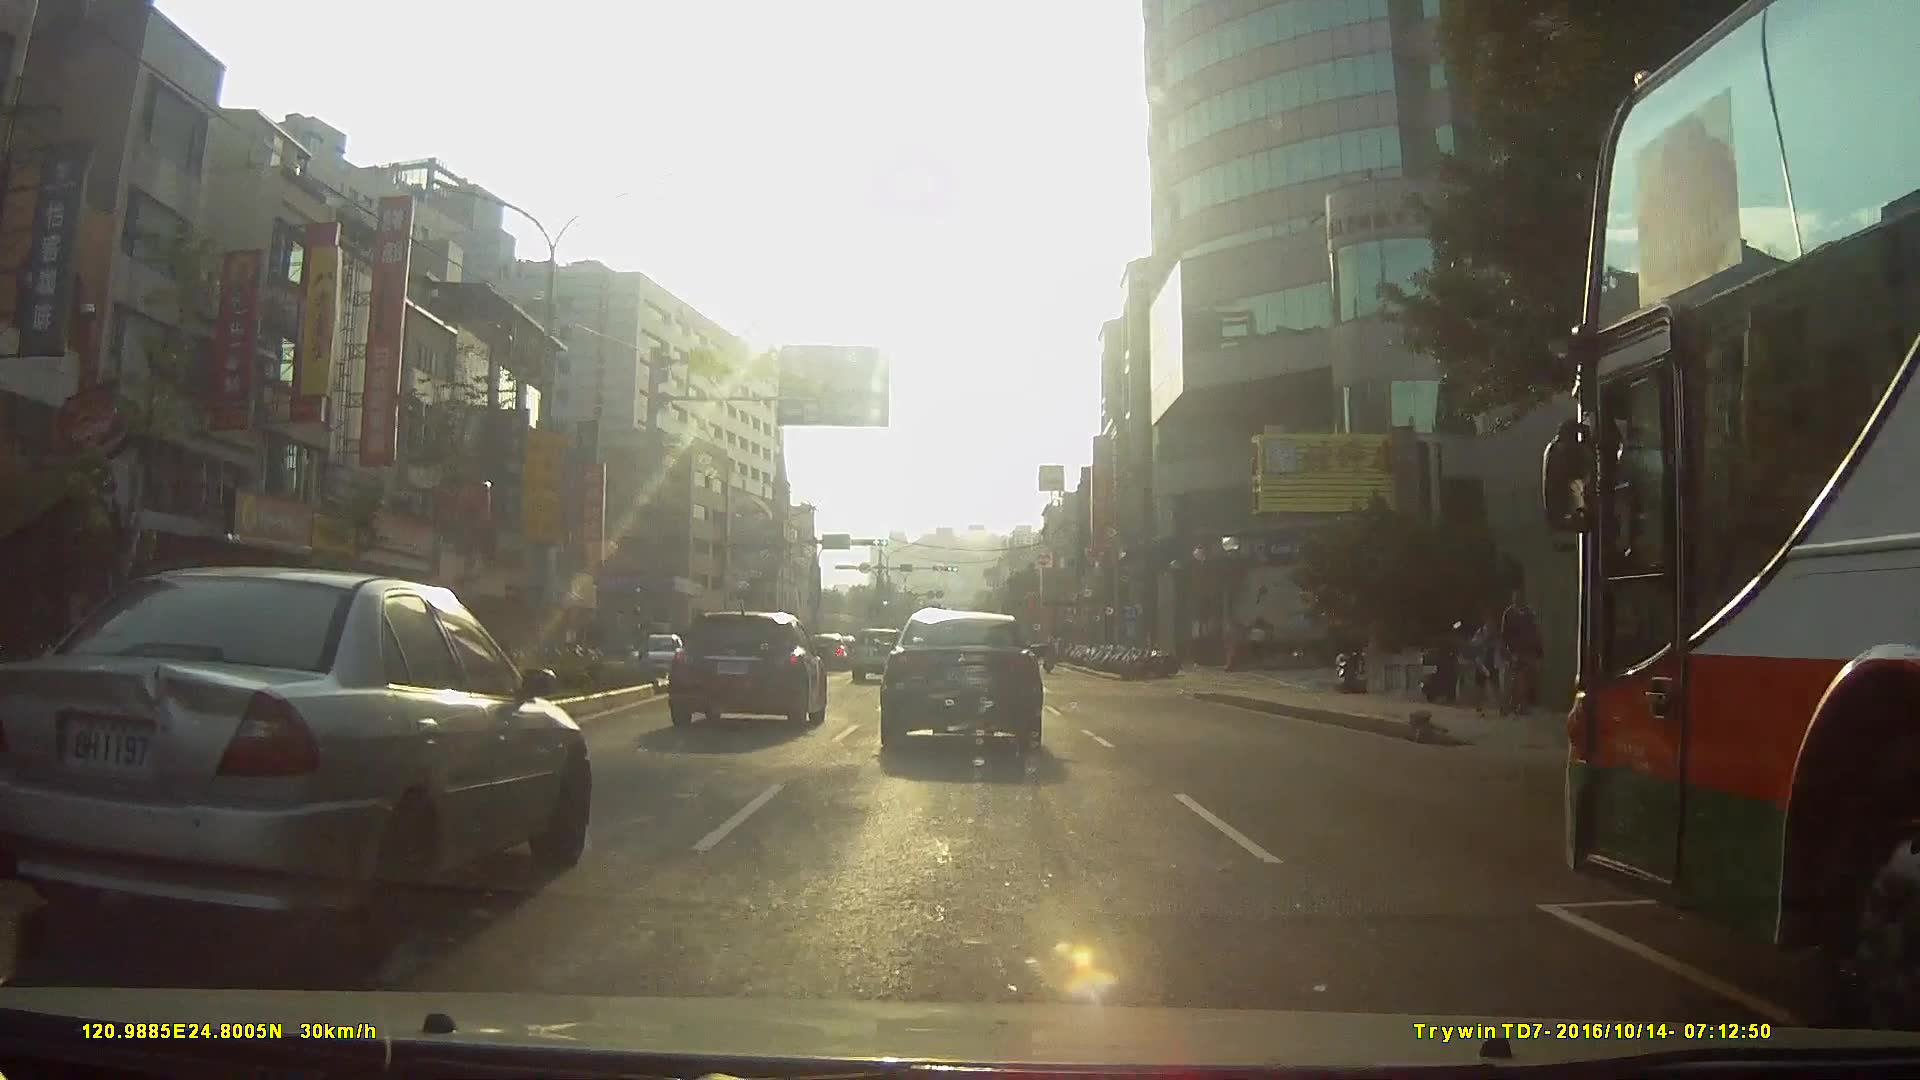pedestrian: (1493, 589, 1545, 721), (1465, 611, 1514, 718)
vehicle: (1506, 1, 1920, 1004), (0, 566, 591, 958), (874, 610, 1041, 755), (666, 613, 827, 734), (846, 626, 906, 681), (631, 633, 690, 683)
